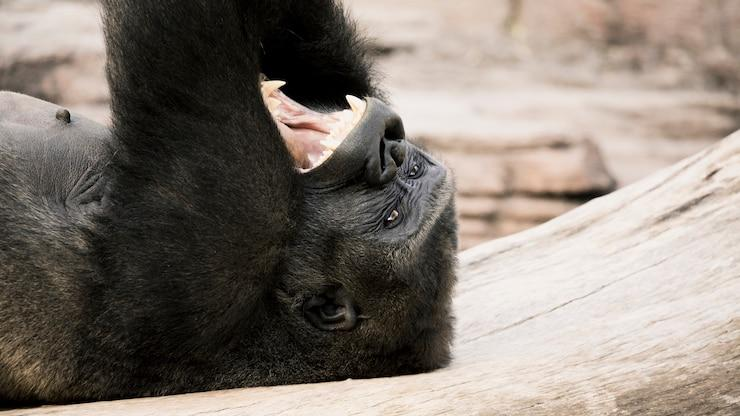gorille_Autres: (0, 0, 466, 410)
